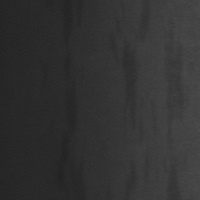inclusion: (50, 2, 86, 193), (114, 5, 152, 143), (159, 21, 188, 194)
